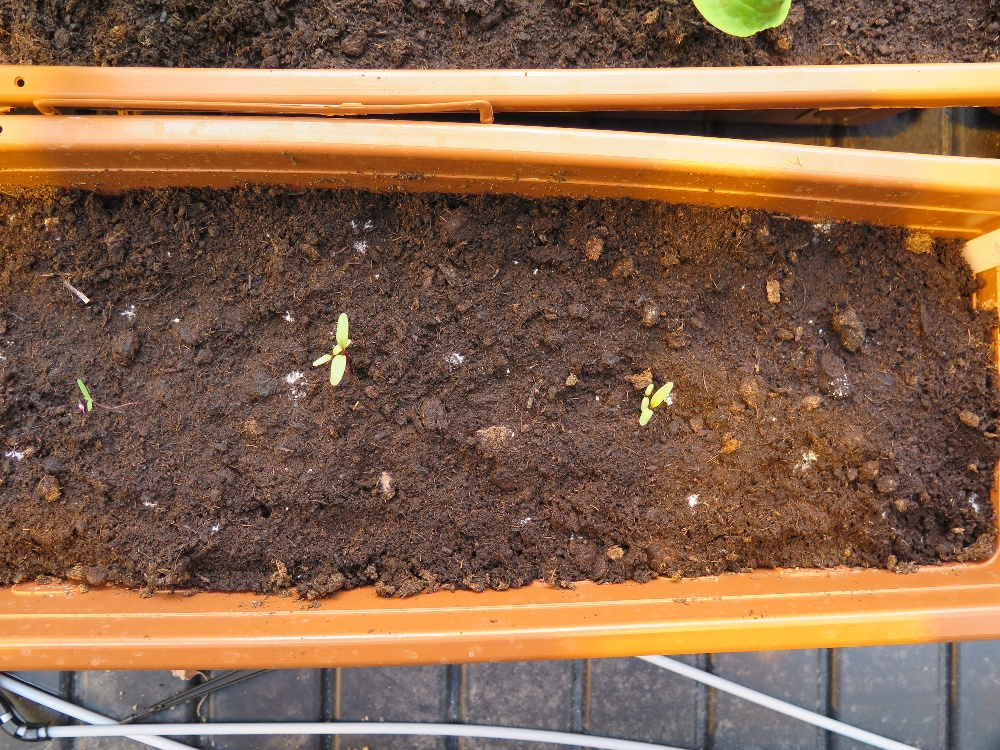crop: (312, 312, 366, 392), (630, 370, 673, 427)
weed: (74, 376, 94, 413)
